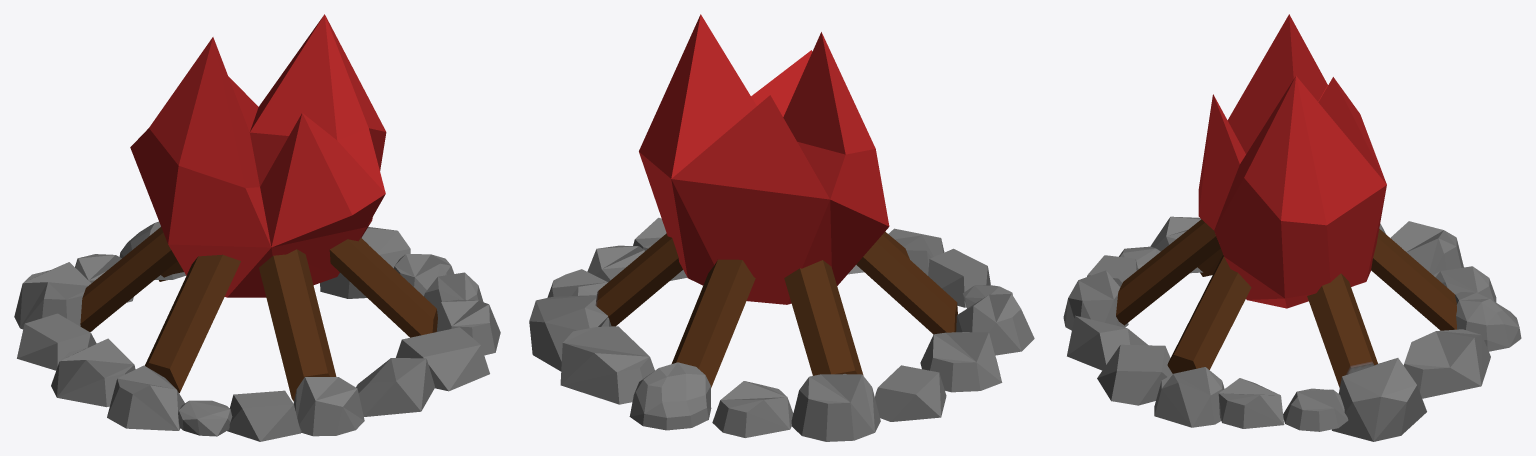
File: Bonfire lit 2.fbx
3 views of the same model, side by side, from view 1: azimuth 30°, elevation 25°; view 2: azimuth 150°, elevation 25°; view 3: azimuth 270°, elevation 25° (orthographic). The views are drawn at different scales.
Parts seen in each view (by area): view 1: Bonfire_2_Lit; view 2: Bonfire_2_Lit; view 3: Bonfire_2_Lit.
Part boxes in pixels (x1,y1,x2,y2): Bonfire_2_Lit: (14, 14, 500, 441); Bonfire_2_Lit: (529, 14, 1034, 441); Bonfire_2_Lit: (1063, 14, 1521, 441).
Bounding box in the file's own units: 215 × 162 × 212.
Materials: 1 (1 with a texture image).
